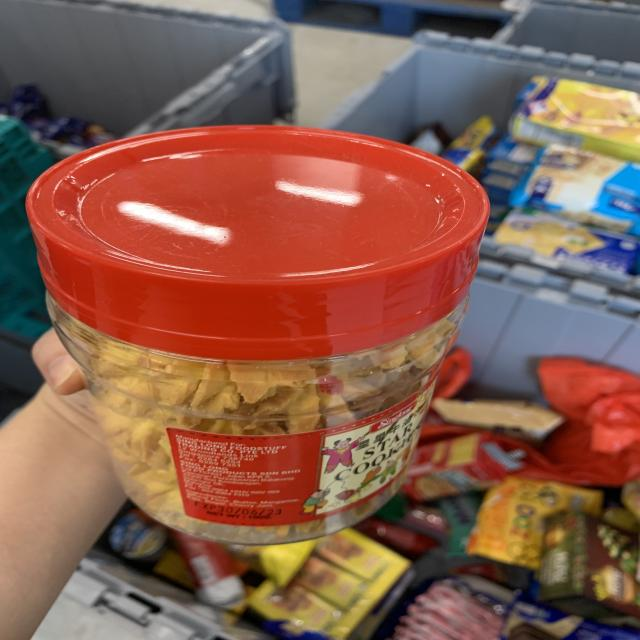object_name: (43, 167, 445, 508)
